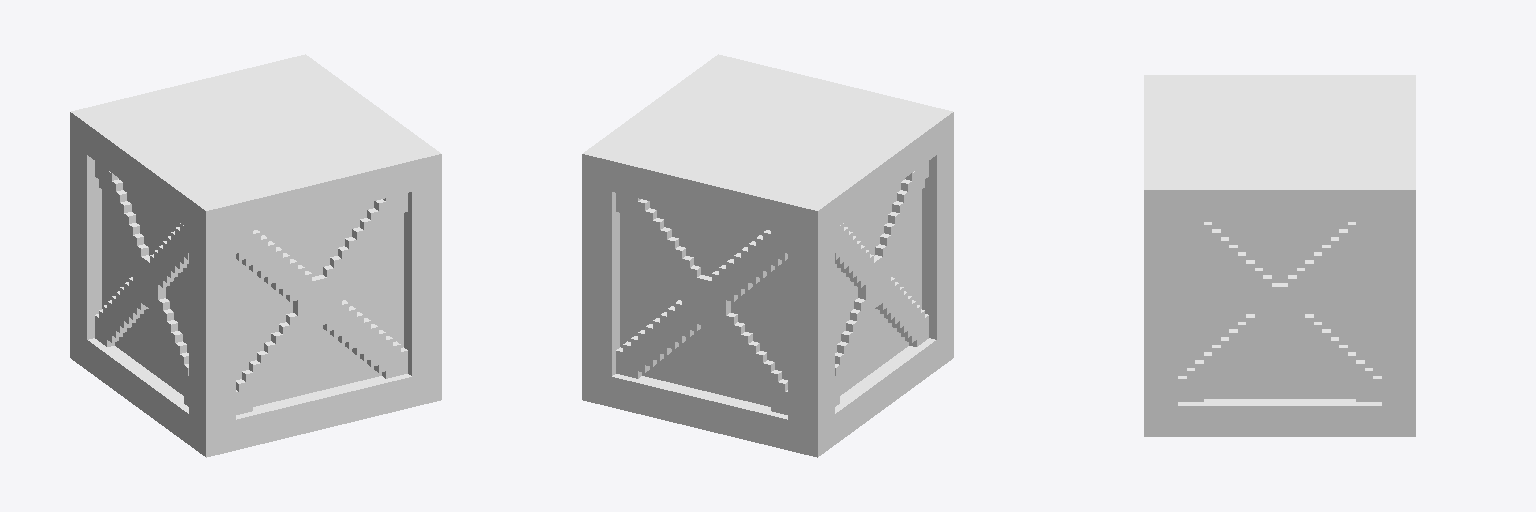
Rendered from crate000(32,32,32).obj.
3 renders of one model, left to right at view 1: azimuth 30°, elevation 25°; view 2: azimuth 150°, elevation 25°; view 3: azimuth 270°, elevation 25°, orthographic.
Size of the model in its own units: 32 by 32 by 32.